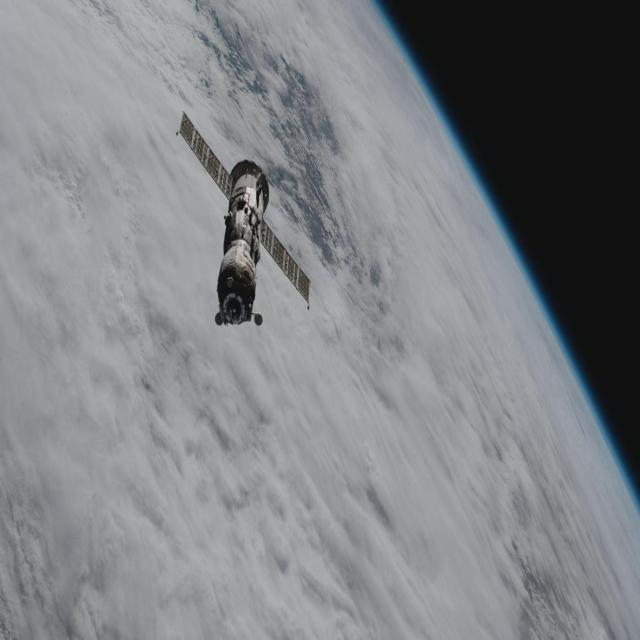medium_debris: (179, 111, 231, 198), (261, 223, 310, 304)
